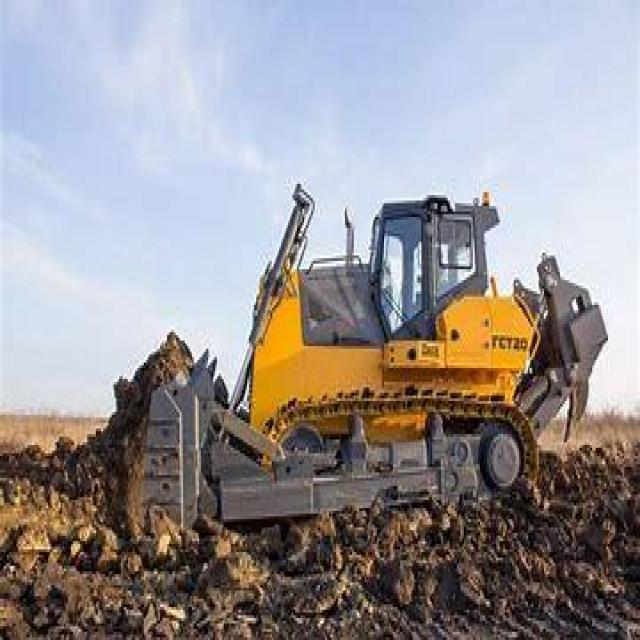Bulldozer: (112, 165, 608, 533)
